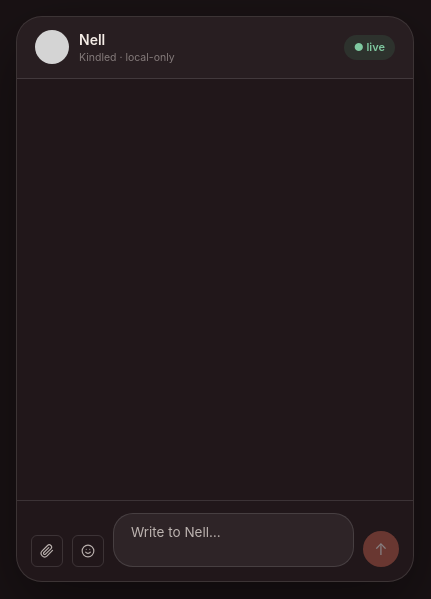
Test: ChatPanel — a failed turn gives the message back (#301) › puts the text back when the send throws
Type "hello there" into the text box with placeholder "Write to Nell…". click: coordinates (234, 540)
box: x1=131 y1=524 x2=336 y2=556
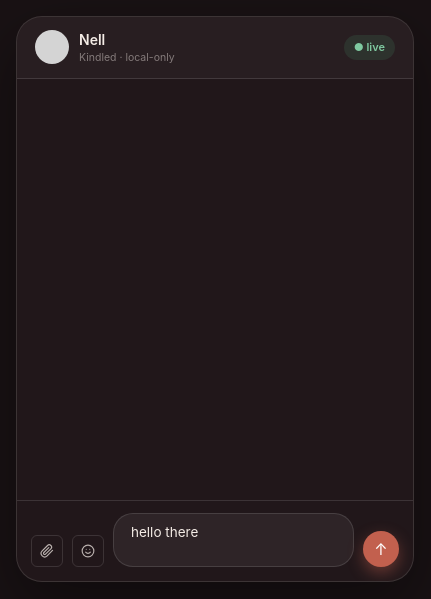
Click the button named "send". click: coordinates (381, 549)
box: x1=363 y1=531 x2=399 y2=567
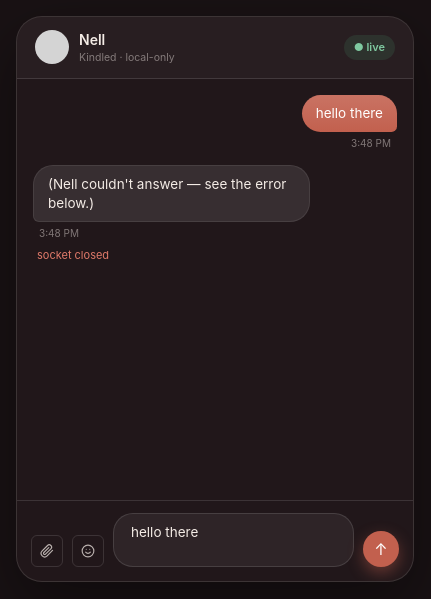
Now the text "socket closed" is shown, box x1=37 y1=248 x2=109 y2=262
